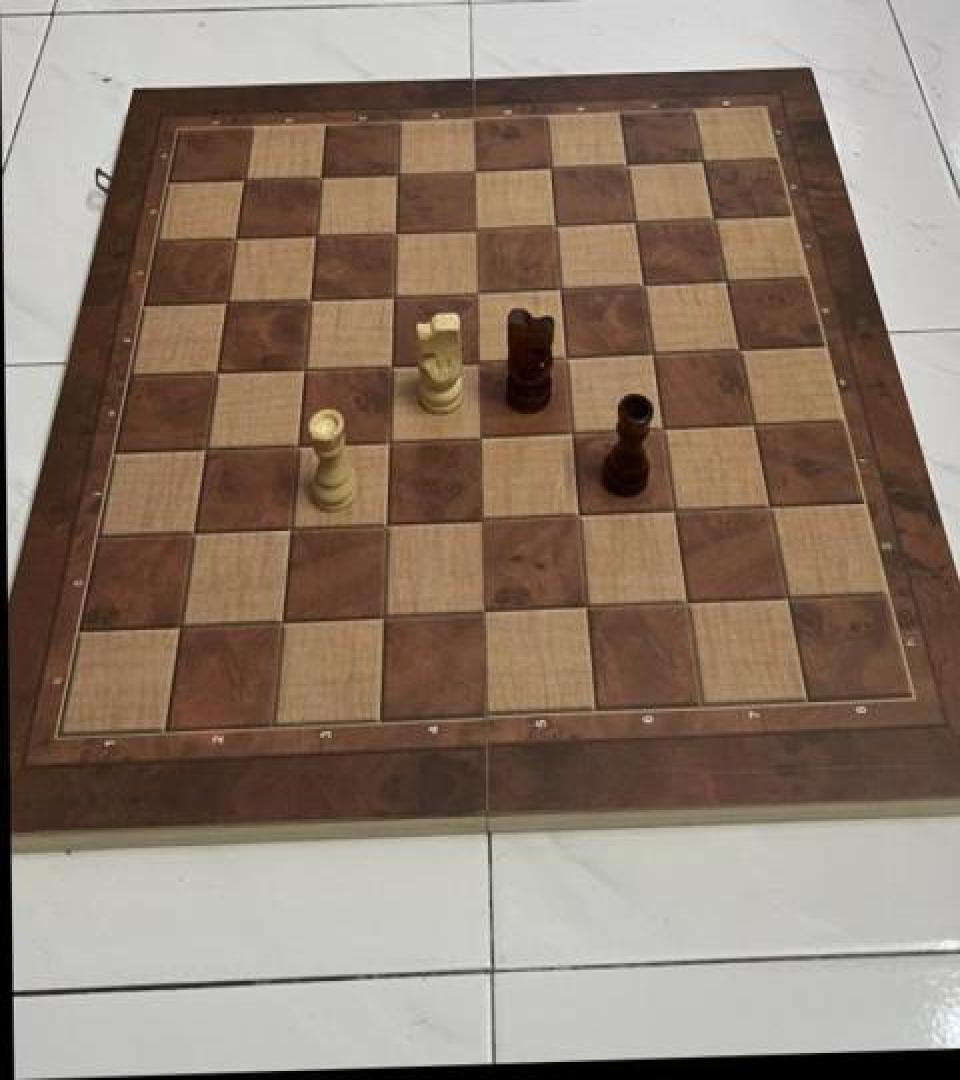xcorner: (530, 147, 566, 188), (378, 154, 414, 195), (614, 201, 650, 242), (455, 208, 491, 249), (218, 218, 254, 259), (623, 264, 659, 305), (457, 271, 493, 312), (209, 281, 245, 322), (546, 335, 582, 376), (372, 343, 408, 384), (643, 407, 679, 448), (189, 425, 225, 466), (655, 489, 691, 530), (464, 497, 500, 538), (272, 505, 308, 546), (770, 577, 806, 618), (265, 597, 301, 638), (682, 142, 718, 182), (606, 144, 642, 184), (454, 151, 490, 191), (302, 158, 338, 198), (226, 161, 262, 201), (693, 198, 729, 238), (535, 205, 571, 245), (376, 212, 412, 252), (297, 215, 333, 255), (706, 260, 742, 300), (540, 268, 576, 308), (374, 275, 410, 315), (292, 278, 328, 318), (720, 329, 756, 369), (633, 332, 669, 372), (459, 339, 495, 379), (286, 347, 322, 387), (199, 350, 235, 390), (735, 403, 771, 443), (552, 411, 588, 451), (461, 414, 497, 454), (370, 419, 406, 459), (279, 422, 315, 462), (751, 486, 787, 526), (559, 494, 595, 534), (368, 501, 404, 541), (177, 509, 213, 549), (668, 582, 704, 622), (567, 585, 603, 625), (466, 590, 502, 630), (365, 593, 401, 633), (164, 602, 200, 642)
